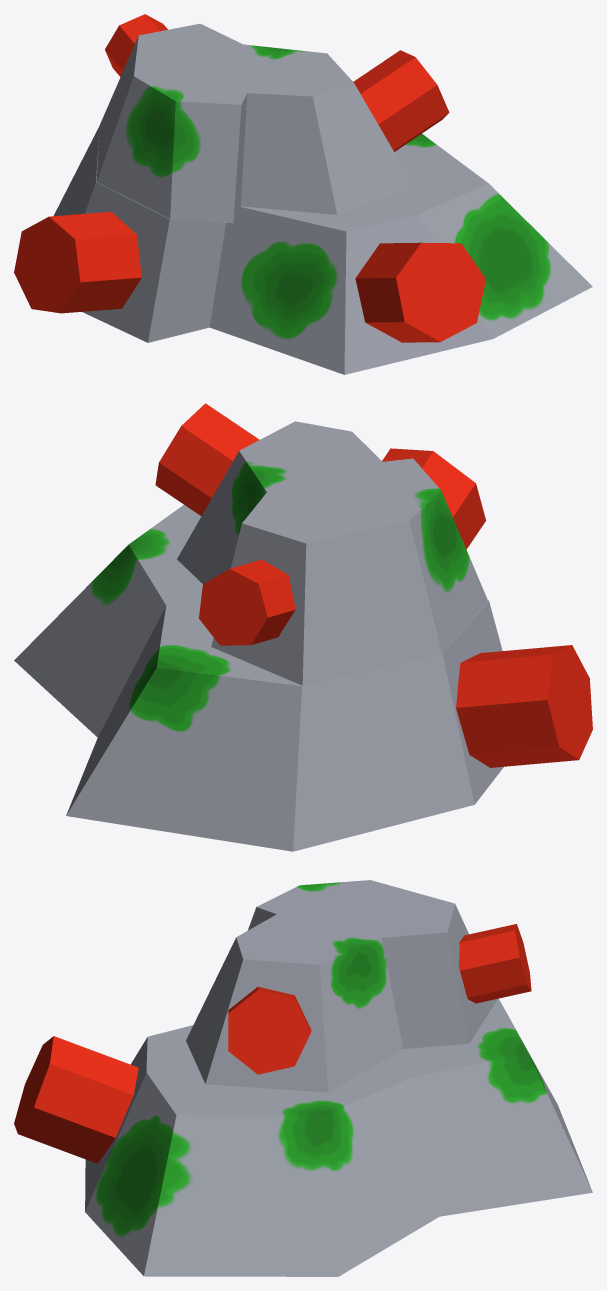
Rendered from RubiMusgo1.fbx.
The picture shows the model from 3 angles, top to bottom: view 1: azimuth 30°, elevation 25°; view 2: azimuth 150°, elevation 25°; view 3: azimuth 270°, elevation 25°; orthographic projection. The views are drawn at different scales.
Parts seen in each view (by area): view 1: base.033, Cylinder.021, Cylinder.020, rubi.014, Cylinder.022; view 2: base.033, Cylinder.021, Cylinder.022, rubi.014, Cylinder.020; view 3: base.033, Cylinder.020, rubi.014, Cylinder.022.
Part boxes in pixels (box(x1,y1,x2,y2)): base.033: box(53, 23, 592, 374); Cylinder.021: box(14, 212, 141, 313); Cylinder.020: box(355, 242, 485, 342); rubi.014: box(353, 50, 449, 151); Cylinder.022: box(105, 14, 167, 76); base.033: box(14, 421, 503, 851); Cylinder.021: box(456, 645, 592, 767); Cylinder.022: box(199, 559, 295, 645); rubi.014: box(155, 403, 259, 516); Cylinder.020: box(382, 448, 485, 549); base.033: box(85, 880, 592, 1276); Cylinder.020: box(14, 1036, 138, 1163); rubi.014: box(228, 986, 311, 1074); Cylinder.022: box(459, 924, 531, 1003).
Bounding box in the file's own units: 150 × 66.46 × 155.
